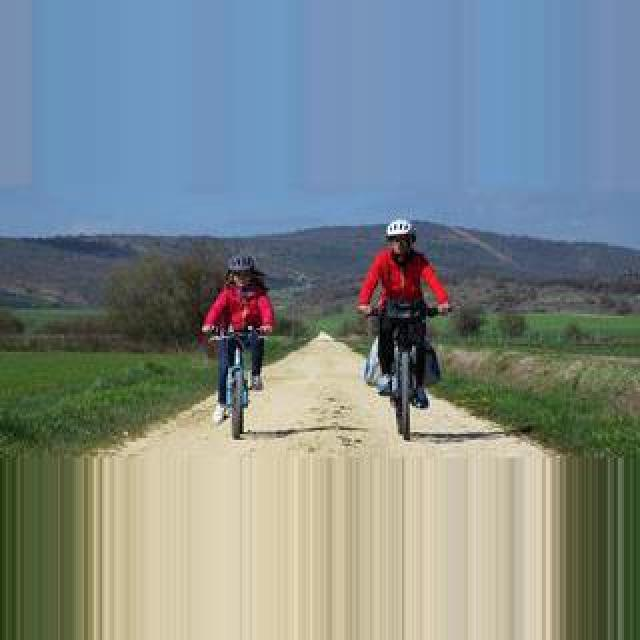MC-Bike: (354, 218, 452, 418), (198, 258, 276, 410)
Person: (375, 306, 435, 438), (206, 321, 266, 439)
